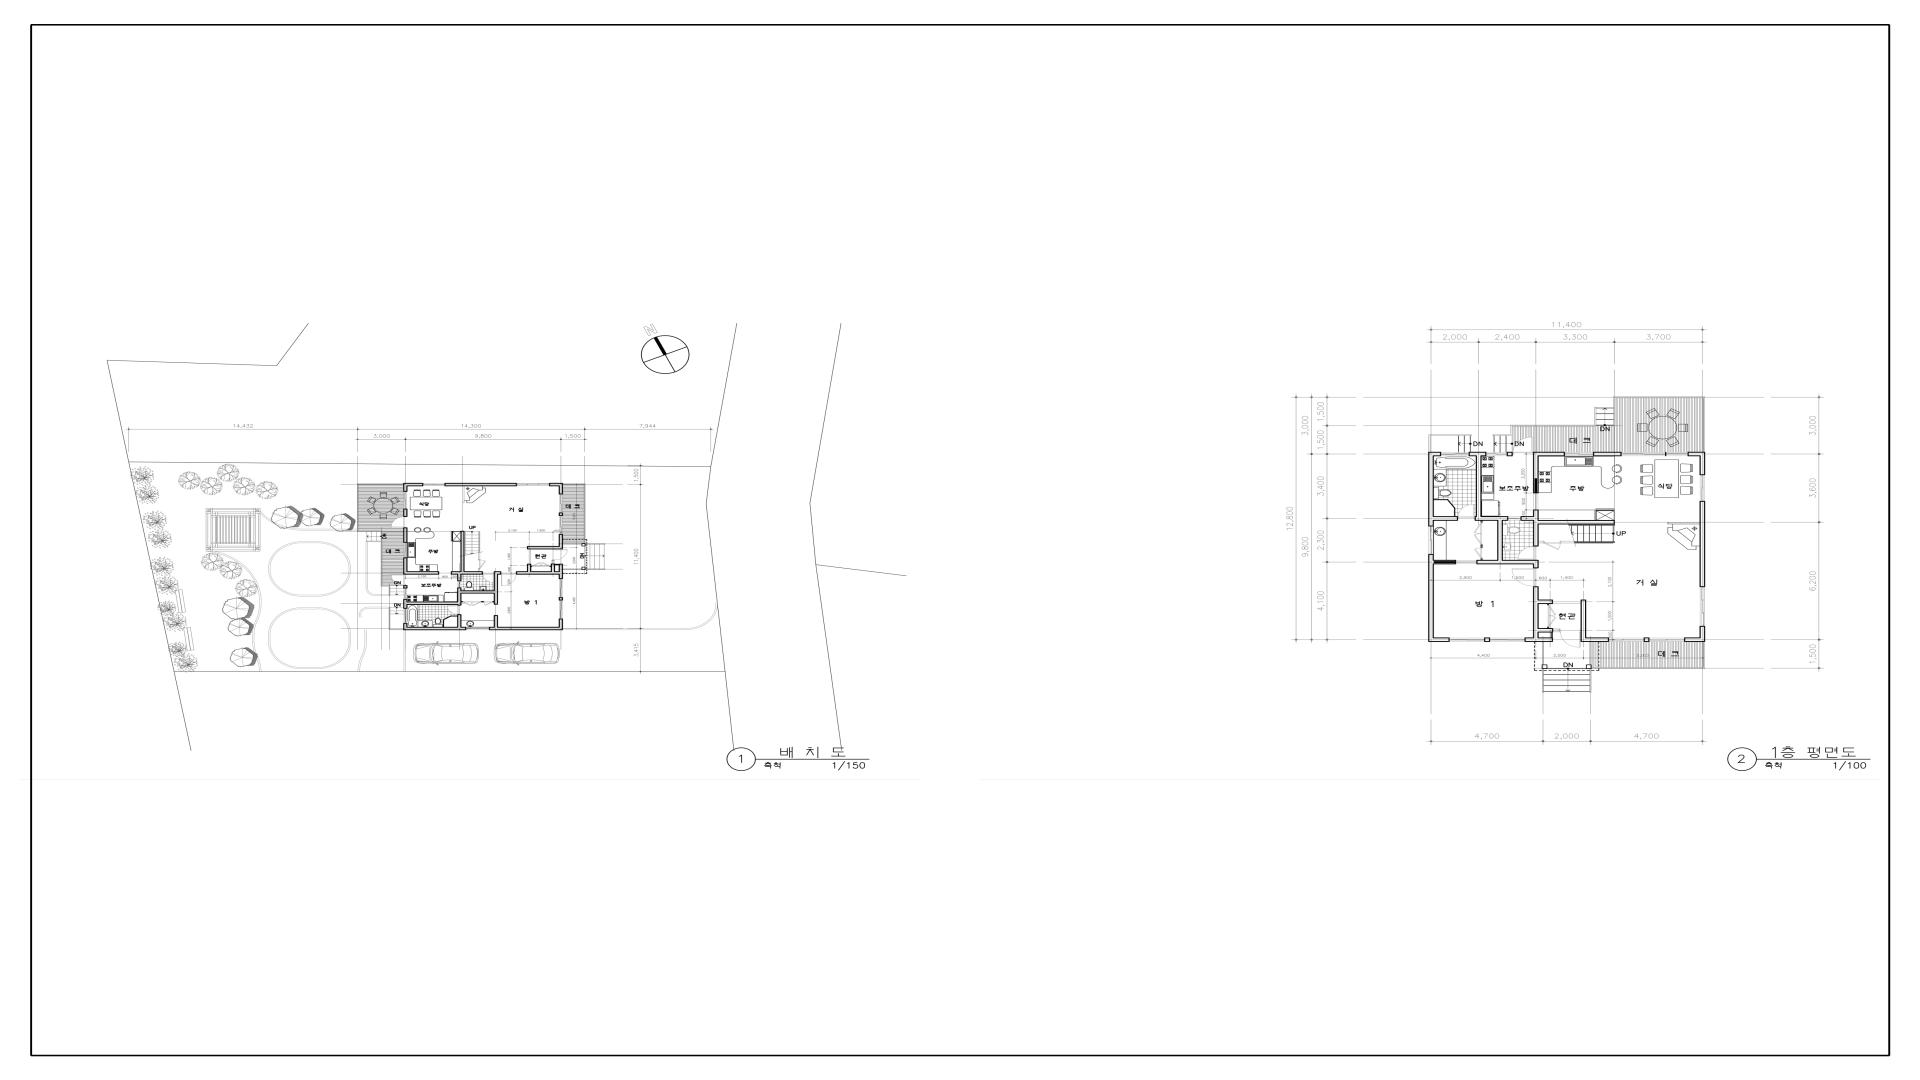door: (1512, 568, 1537, 586), (1560, 629, 1581, 648), (1513, 437, 1533, 455), (1539, 541, 1574, 550), (1518, 546, 1537, 560), (1458, 504, 1475, 519), (501, 573, 516, 586), (391, 574, 406, 585), (391, 517, 406, 528), (552, 549, 567, 560), (478, 552, 486, 571), (447, 605, 460, 614), (483, 573, 494, 583), (1534, 493, 1538, 510)
wall: (1428, 554, 1434, 637), (1700, 501, 1705, 587), (1428, 456, 1434, 526), (1539, 520, 1615, 525), (1476, 456, 1482, 516), (1533, 586, 1539, 638), (1497, 521, 1503, 560), (1476, 560, 1533, 564), (1533, 456, 1539, 493), (444, 483, 517, 486), (1533, 510, 1539, 546), (489, 627, 559, 630), (460, 531, 465, 571), (407, 601, 457, 605), (403, 627, 466, 630), (1581, 600, 1586, 637), (516, 571, 559, 575), (1475, 516, 1508, 521), (1581, 637, 1609, 642), (461, 590, 494, 594), (1533, 452, 1565, 456), (451, 571, 483, 575), (408, 571, 439, 575), (1434, 516, 1458, 521), (494, 575, 498, 605), (1593, 452, 1622, 456), (1700, 452, 1705, 475), (1525, 638, 1553, 642), (1428, 637, 1450, 642), (1684, 637, 1705, 642), (527, 546, 559, 549), (403, 557, 408, 575), (457, 588, 462, 606), (403, 527, 408, 543), (1539, 628, 1553, 633), (1469, 452, 1486, 456), (457, 614, 462, 627), (1521, 516, 1533, 521), (1700, 626, 1705, 638), (559, 534, 563, 549), (559, 564, 563, 579), (1539, 600, 1553, 604), (1428, 452, 1441, 456), (403, 599, 408, 609), (1688, 452, 1700, 456), (1533, 560, 1539, 568), (494, 615, 498, 627), (403, 483, 408, 492), (408, 483, 423, 486), (559, 619, 563, 630), (549, 483, 563, 486), (403, 509, 408, 517), (559, 486, 563, 494), (443, 616, 451, 620), (1484, 637, 1490, 642), (1644, 637, 1650, 642), (457, 575, 462, 581), (551, 564, 555, 571), (527, 564, 531, 571), (494, 571, 501, 575), (1507, 452, 1513, 456), (403, 623, 408, 627), (403, 585, 408, 588), (559, 513, 563, 516), (559, 597, 563, 600), (1551, 633, 1553, 638), (443, 619, 444, 627), (451, 616, 457, 617), (555, 564, 559, 565)
window: (1622, 452, 1688, 456), (1700, 587, 1705, 626), (1490, 638, 1525, 642), (1429, 526, 1434, 554), (1609, 638, 1644, 642), (1450, 638, 1484, 642), (1700, 475, 1705, 501), (1565, 452, 1593, 456), (1441, 452, 1469, 456), (1650, 638, 1684, 641), (517, 483, 549, 486), (1486, 452, 1507, 456), (466, 627, 489, 630), (423, 483, 445, 486), (559, 494, 562, 513), (559, 516, 562, 534), (559, 579, 562, 597), (559, 600, 562, 618), (404, 492, 407, 509), (404, 609, 407, 623), (404, 543, 407, 557), (1508, 517, 1521, 520), (404, 588, 407, 599), (1553, 628, 1560, 632), (551, 560, 555, 564)
